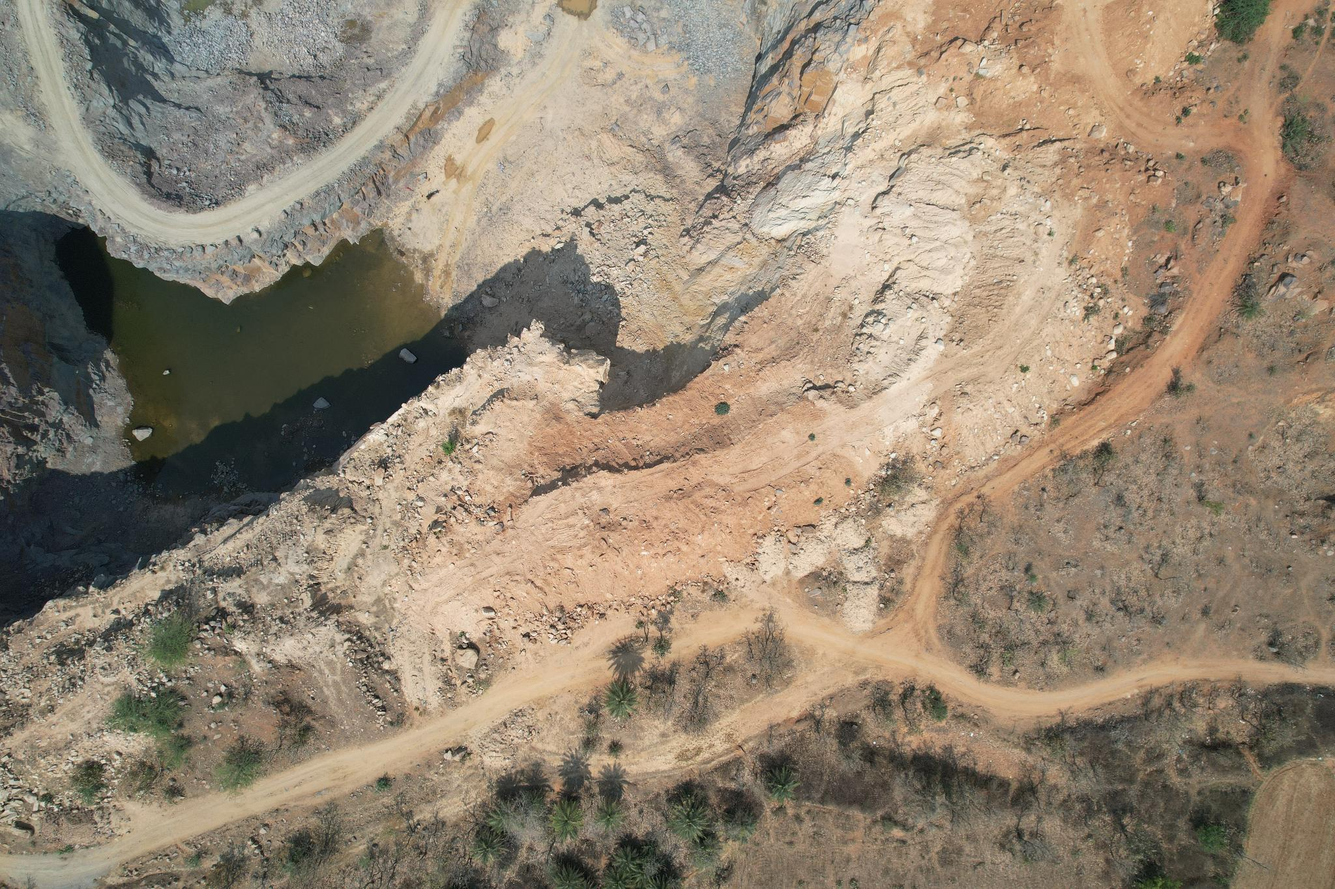benches: (773, 0, 1335, 724), (0, 616, 630, 887), (16, 0, 462, 246)
